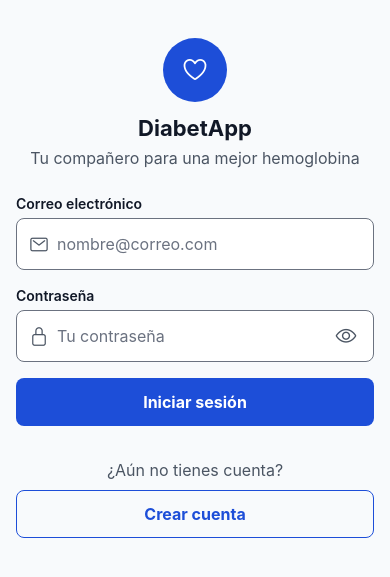
Test: LoginScreen › muestra los errores junto a los campos al enviar vacío
This screenshot has width=390, height=577.
Click the button "Iniciar sesión".
click(195, 402)  # box [16,378,374,426]
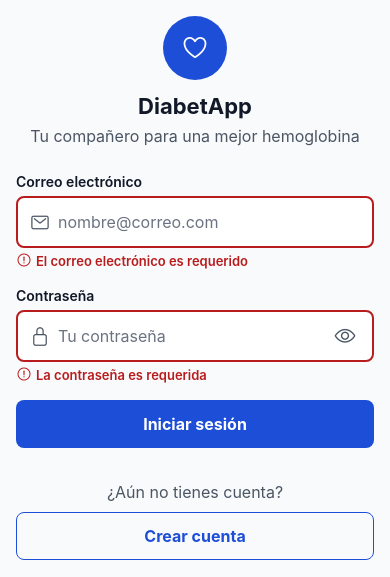
Now the text "El correo electrónico es requerido" is shown, box [36,252,248,270]
Now the text "La contraseña es requerida" is shown, box [36,366,207,384]
